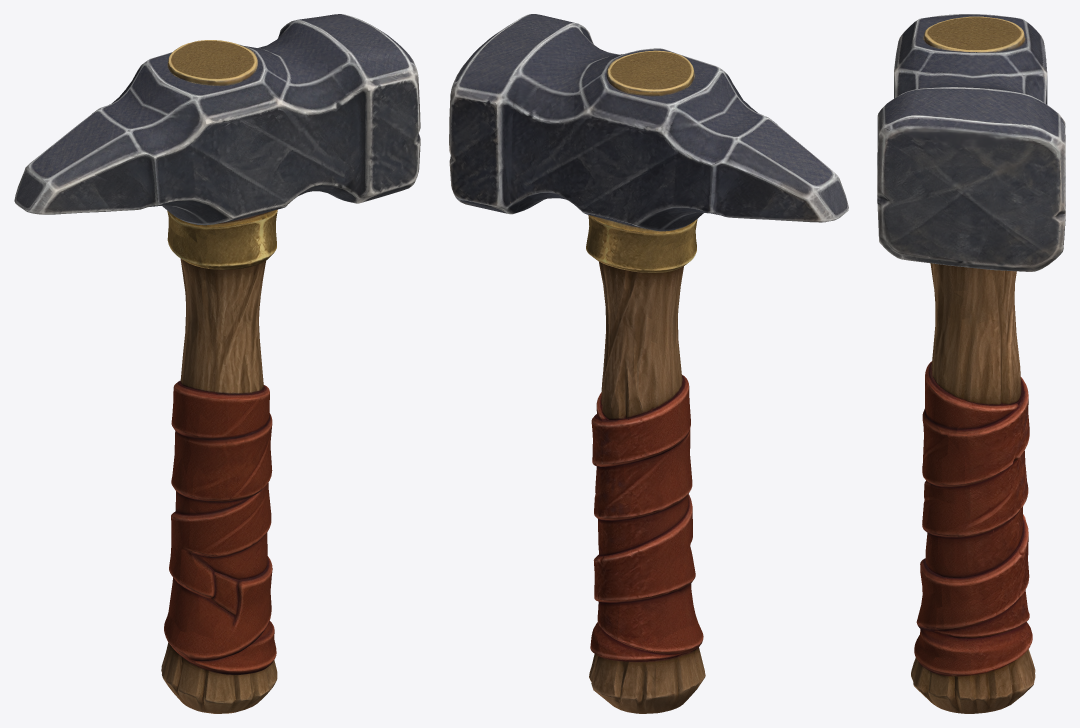
File: marteau.glb
3 views of the same model, side by side, from view 1: azimuth 30°, elevation 25°; view 2: azimuth 150°, elevation 25°; view 3: azimuth 270°, elevation 25° (orthographic). The views are drawn at different scales.
Visible parts, largest first — view 1: output_unwrapped; view 2: output_unwrapped; view 3: output_unwrapped.
Part boxes in pixels (x1=…): output_unwrapped: x1=14, y1=14, x2=420, y2=713; output_unwrapped: x1=449, y1=14, x2=848, y2=713; output_unwrapped: x1=877, y1=14, x2=1065, y2=713.
Size of the model in its own units: 1.13 by 1.9 by 0.4907.
Materials: 1 (1 with a texture image).
